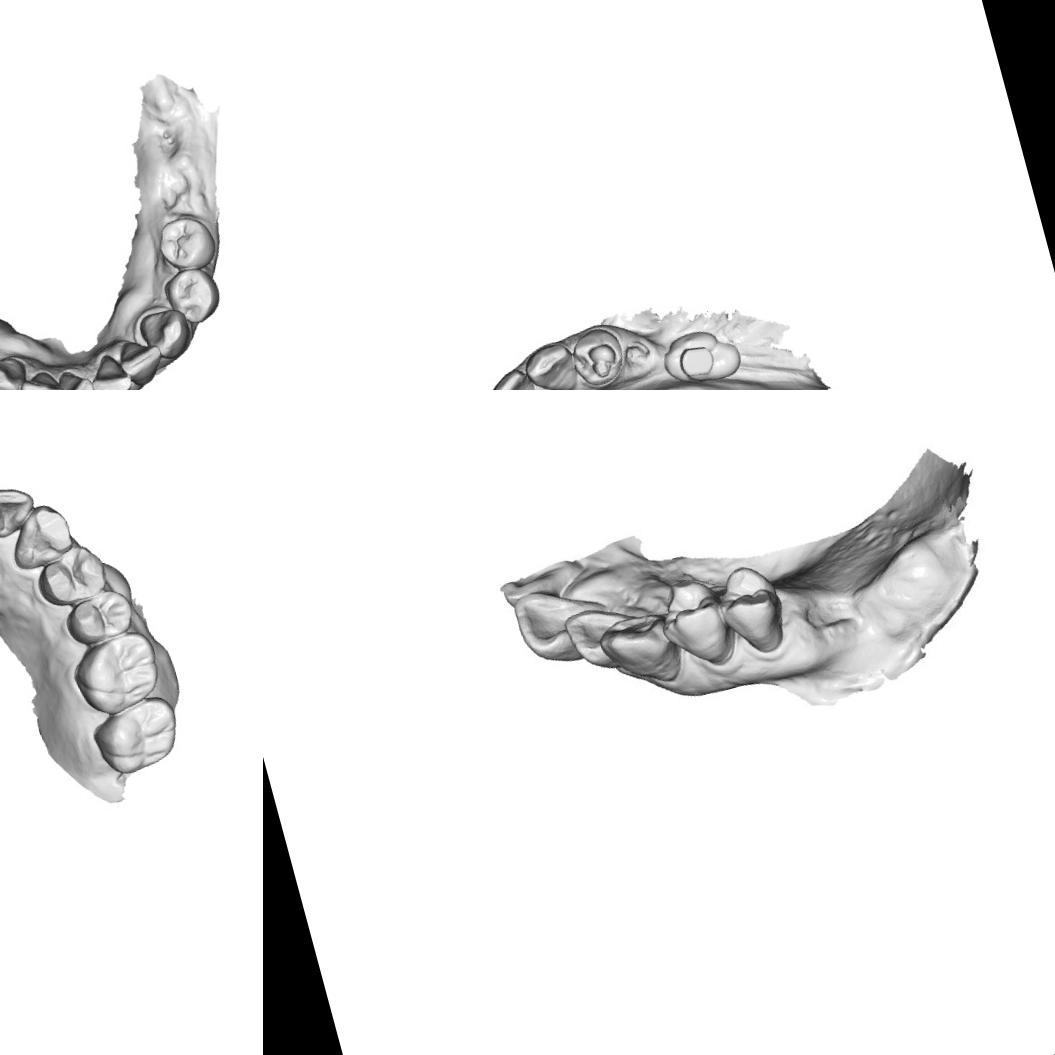canine: (594, 604, 682, 696), (0, 497, 77, 575), (136, 302, 198, 365), (521, 338, 583, 390), (0, 349, 36, 390)
incisor: (506, 570, 610, 672), (565, 592, 654, 677), (111, 331, 169, 390), (0, 478, 41, 541), (83, 346, 139, 390), (482, 363, 540, 390), (13, 364, 67, 390), (49, 363, 100, 390)
molar: (65, 626, 167, 720), (86, 690, 188, 780), (655, 319, 745, 390)
premolar: (714, 560, 795, 662), (660, 570, 737, 670), (29, 538, 112, 612), (58, 584, 140, 650), (150, 208, 222, 277), (159, 260, 227, 331), (565, 319, 631, 390)
